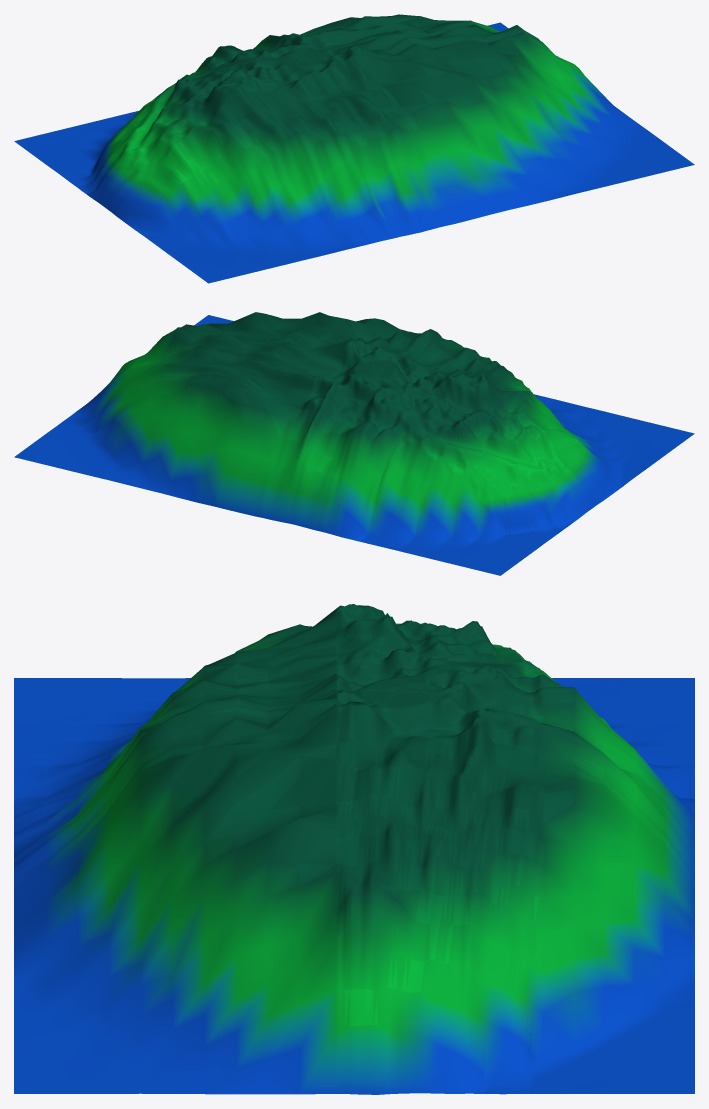
Rendered from coilspire_ground.glb.
The picture shows the model from 3 angles, top to bottom: view 1: azimuth 30°, elevation 25°; view 2: azimuth 150°, elevation 25°; view 3: azimuth 270°, elevation 25°; orthographic projection. The views are drawn at different scales.
Visible parts, largest first — view 1: coilspire_ground; view 2: coilspire_ground; view 3: coilspire_ground.
Boxes of the visible parts, x1,y1,x2,y2 form: coilspire_ground: [14, 14, 694, 283]; coilspire_ground: [14, 312, 694, 575]; coilspire_ground: [14, 604, 694, 1094].
Size of what is drawn, in the model's own units: 260 by 53.87 by 180.
